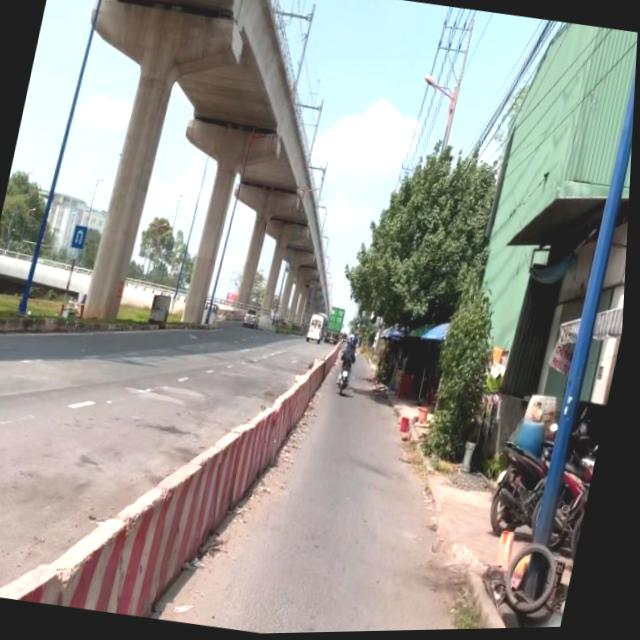Cho quay xe: (73, 224, 90, 251)
